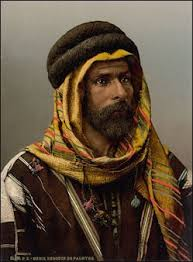middle_eastern_male: (79, 58, 144, 128)
